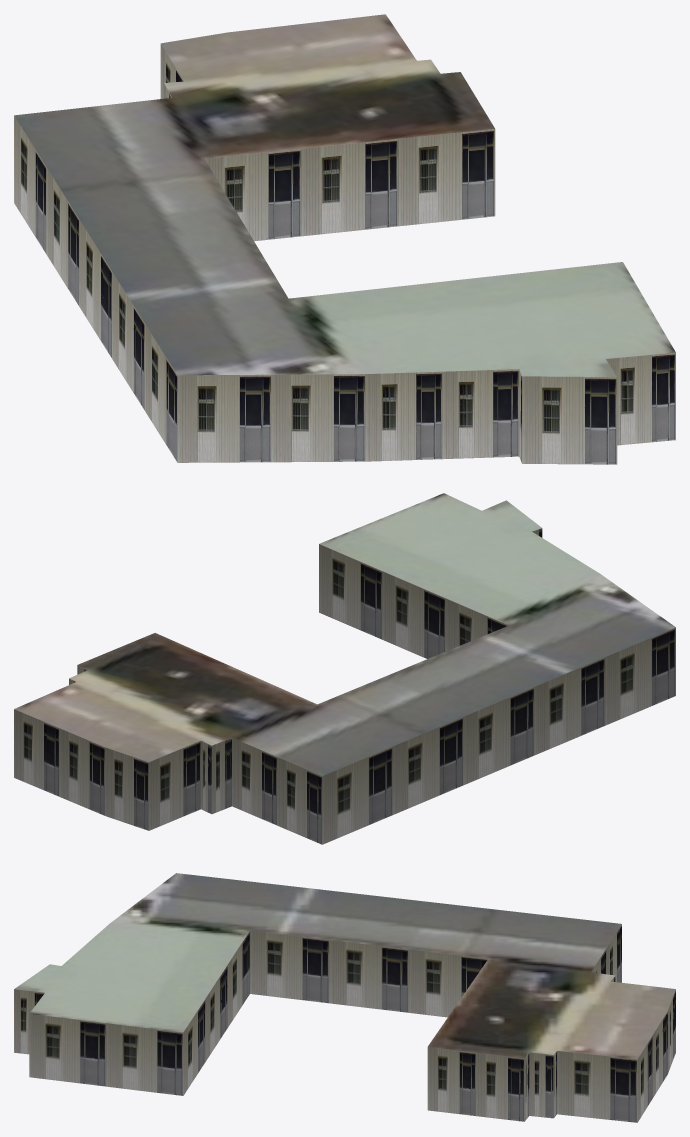
The model's file is T_1SXPU4NUMR.dae.
3 renders of one model, top to bottom at view 1: azimuth 30°, elevation 25°; view 2: azimuth 150°, elevation 25°; view 3: azimuth 270°, elevation 25°, orthographic. The views are drawn at different scales.
Visible parts, largest first — view 1: SketchUp (×7); view 2: SketchUp (×9); view 3: SketchUp (×12).
Boxes of the visible parts, x1,y1,x2,y2 form: SketchUp (×7): (14, 14, 675, 464); SketchUp (×9): (14, 493, 675, 844); SketchUp (×12): (14, 873, 675, 1122).
Size of the model in its own units: 26.28 by 39.47 by 4.18.
2 materials, 2 textured.
